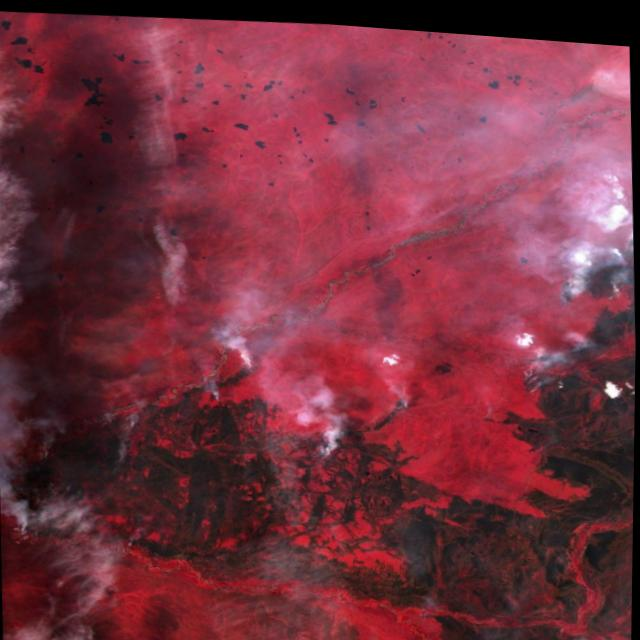fire: (528, 233, 638, 393), (283, 366, 423, 473), (0, 429, 85, 551), (181, 338, 269, 409), (153, 525, 213, 574)
